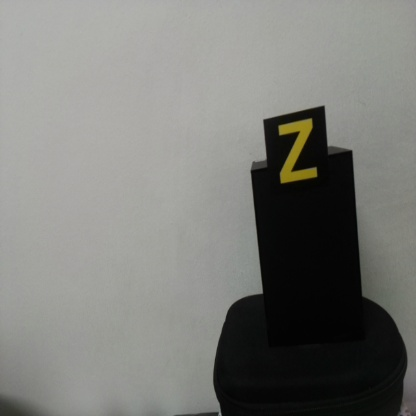id_15: (264, 117, 329, 195)
